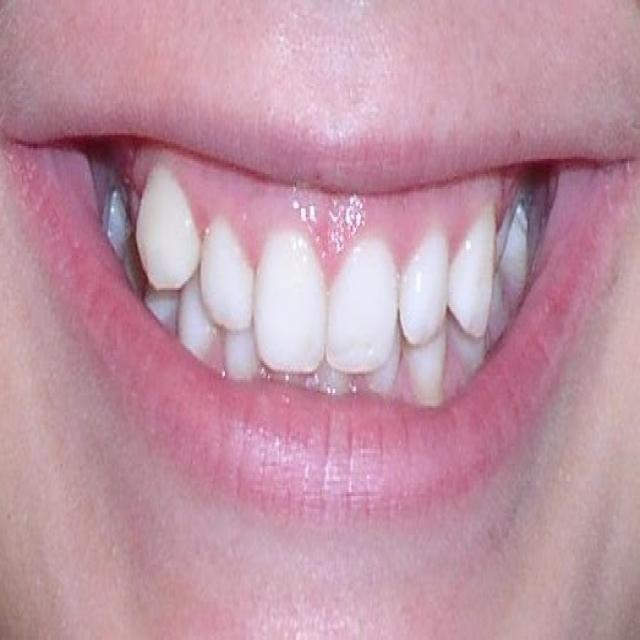tooth: (336, 230, 391, 348), (250, 258, 317, 322), (399, 232, 440, 335), (146, 172, 188, 268), (442, 228, 493, 296), (496, 198, 528, 296), (201, 223, 235, 303), (229, 329, 273, 382), (182, 277, 210, 359)
